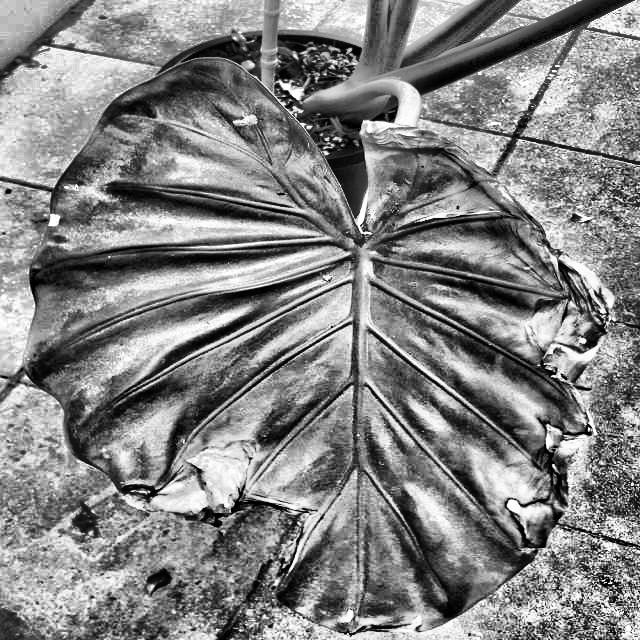plants: (48, 52, 606, 640)
